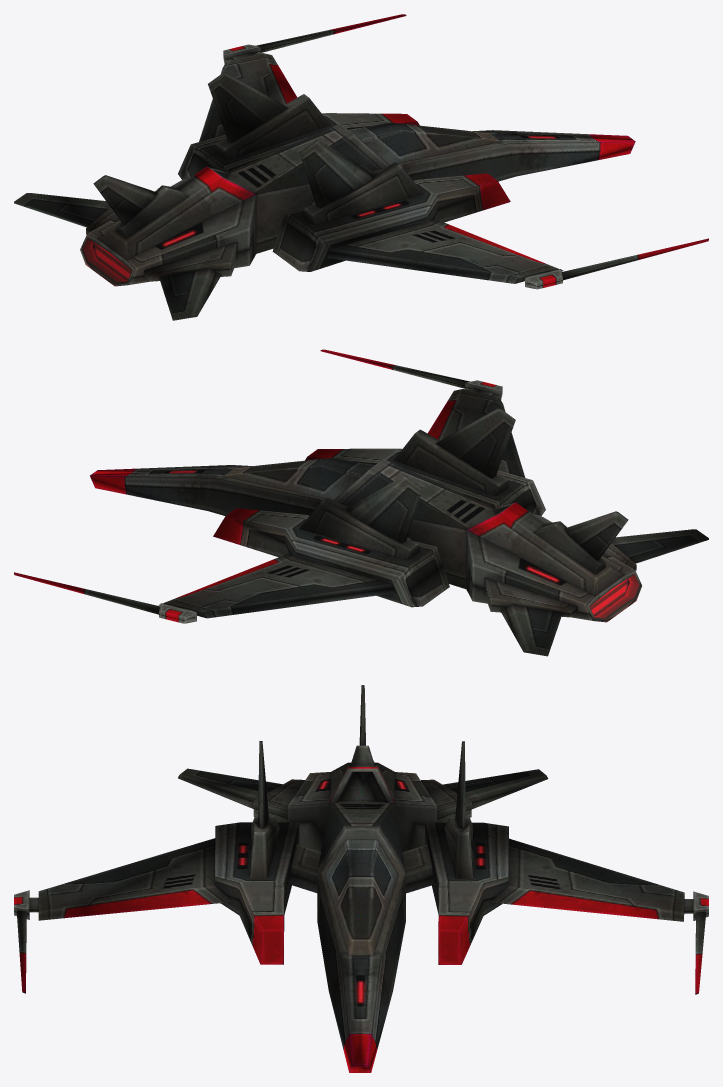
3 views of the same model, one above another, from view 1: azimuth 30°, elevation 25°; view 2: azimuth 150°, elevation 25°; view 3: azimuth 270°, elevation 25° (orthographic). The views are drawn at different scales.
Visible parts, largest first — view 1: dark_fighter_6; view 2: dark_fighter_6; view 3: dark_fighter_6.
Part boxes in pixels (left/top/right/bottom): dark_fighter_6: left=14, top=14, right=708, bottom=320; dark_fighter_6: left=14, top=349, right=708, bottom=656; dark_fighter_6: left=14, top=685, right=708, bottom=1072.
Bounding box in the file's own units: 1331 × 308 × 1358.
1 material, 1 textured.
